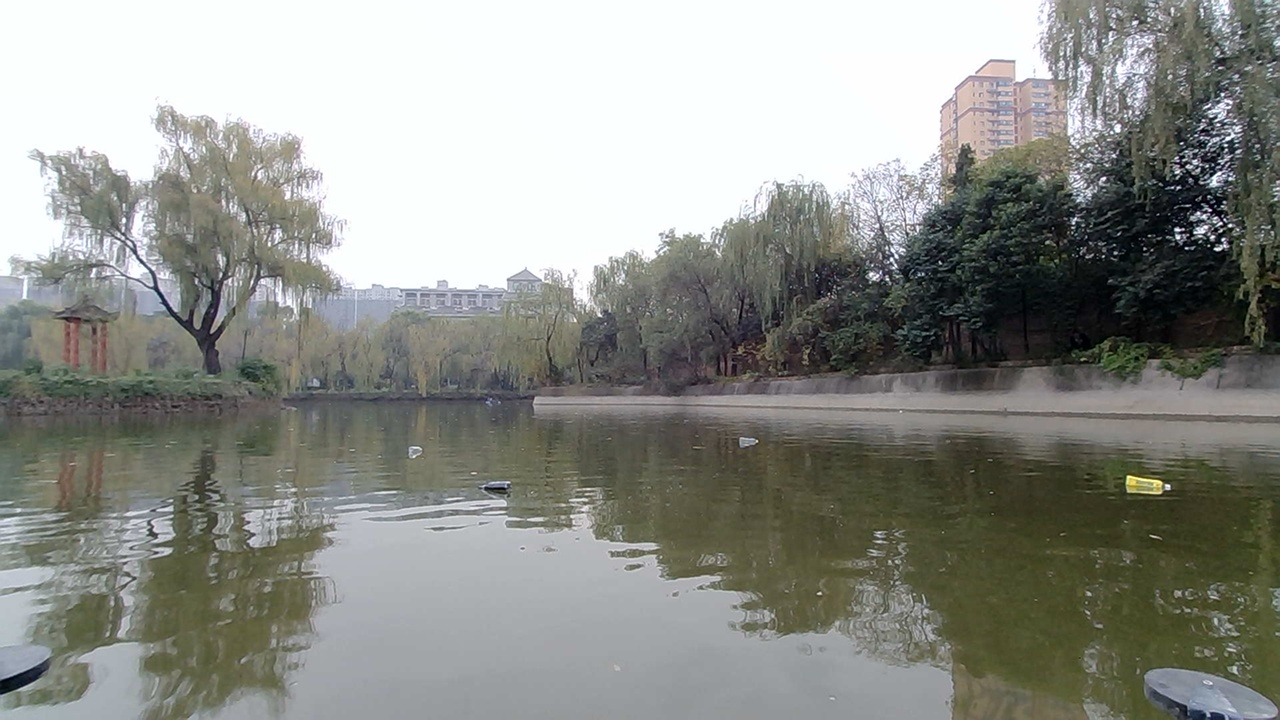bottle: (481, 473, 534, 509), (1122, 469, 1166, 503), (402, 444, 447, 473), (728, 421, 771, 447)
